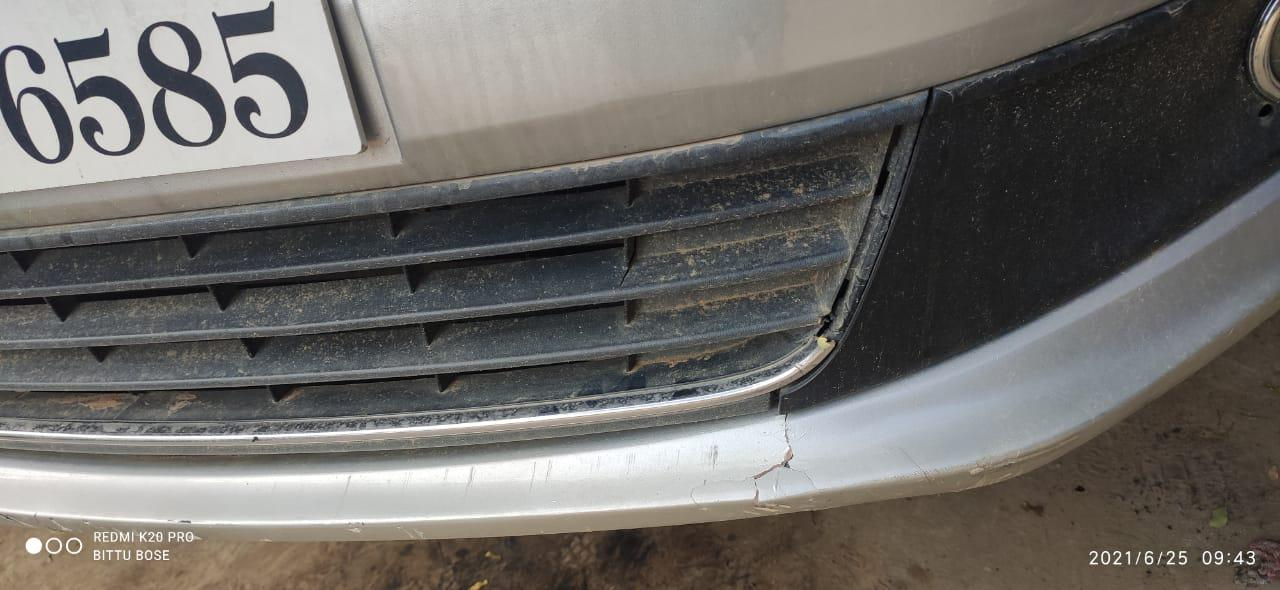front-bumper-dent: (198, 3, 1115, 546)
